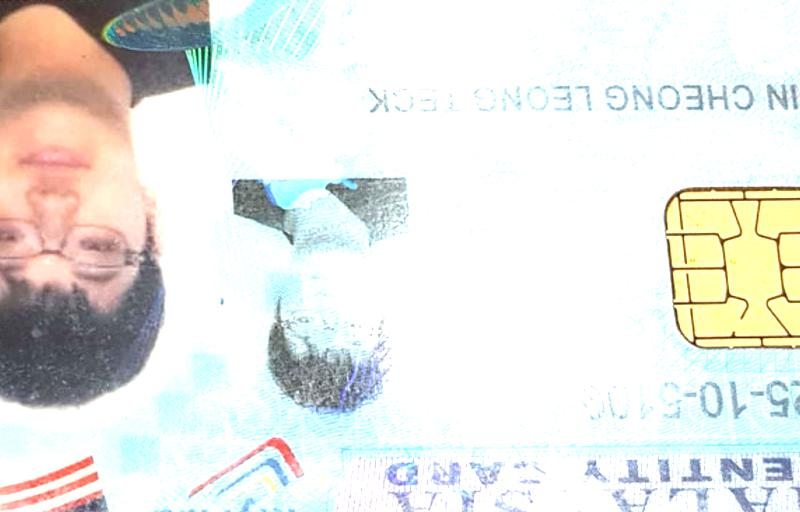hologramB: (211, 1, 336, 174)
